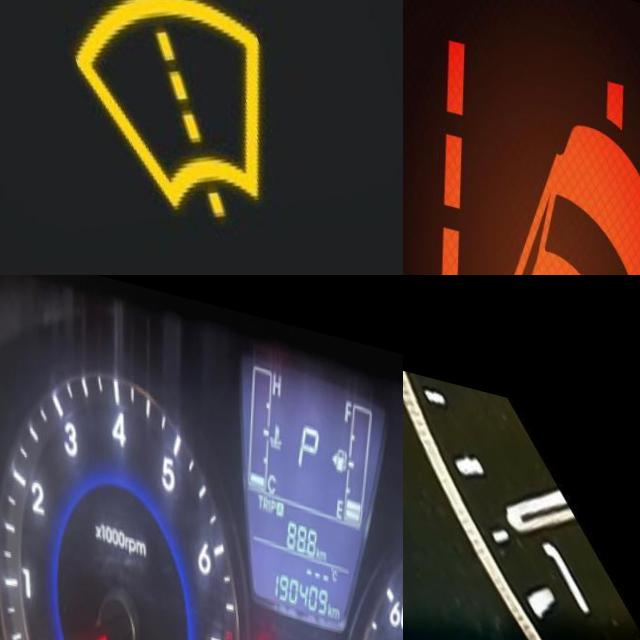Washer Fluid: (70, 0, 267, 209)
